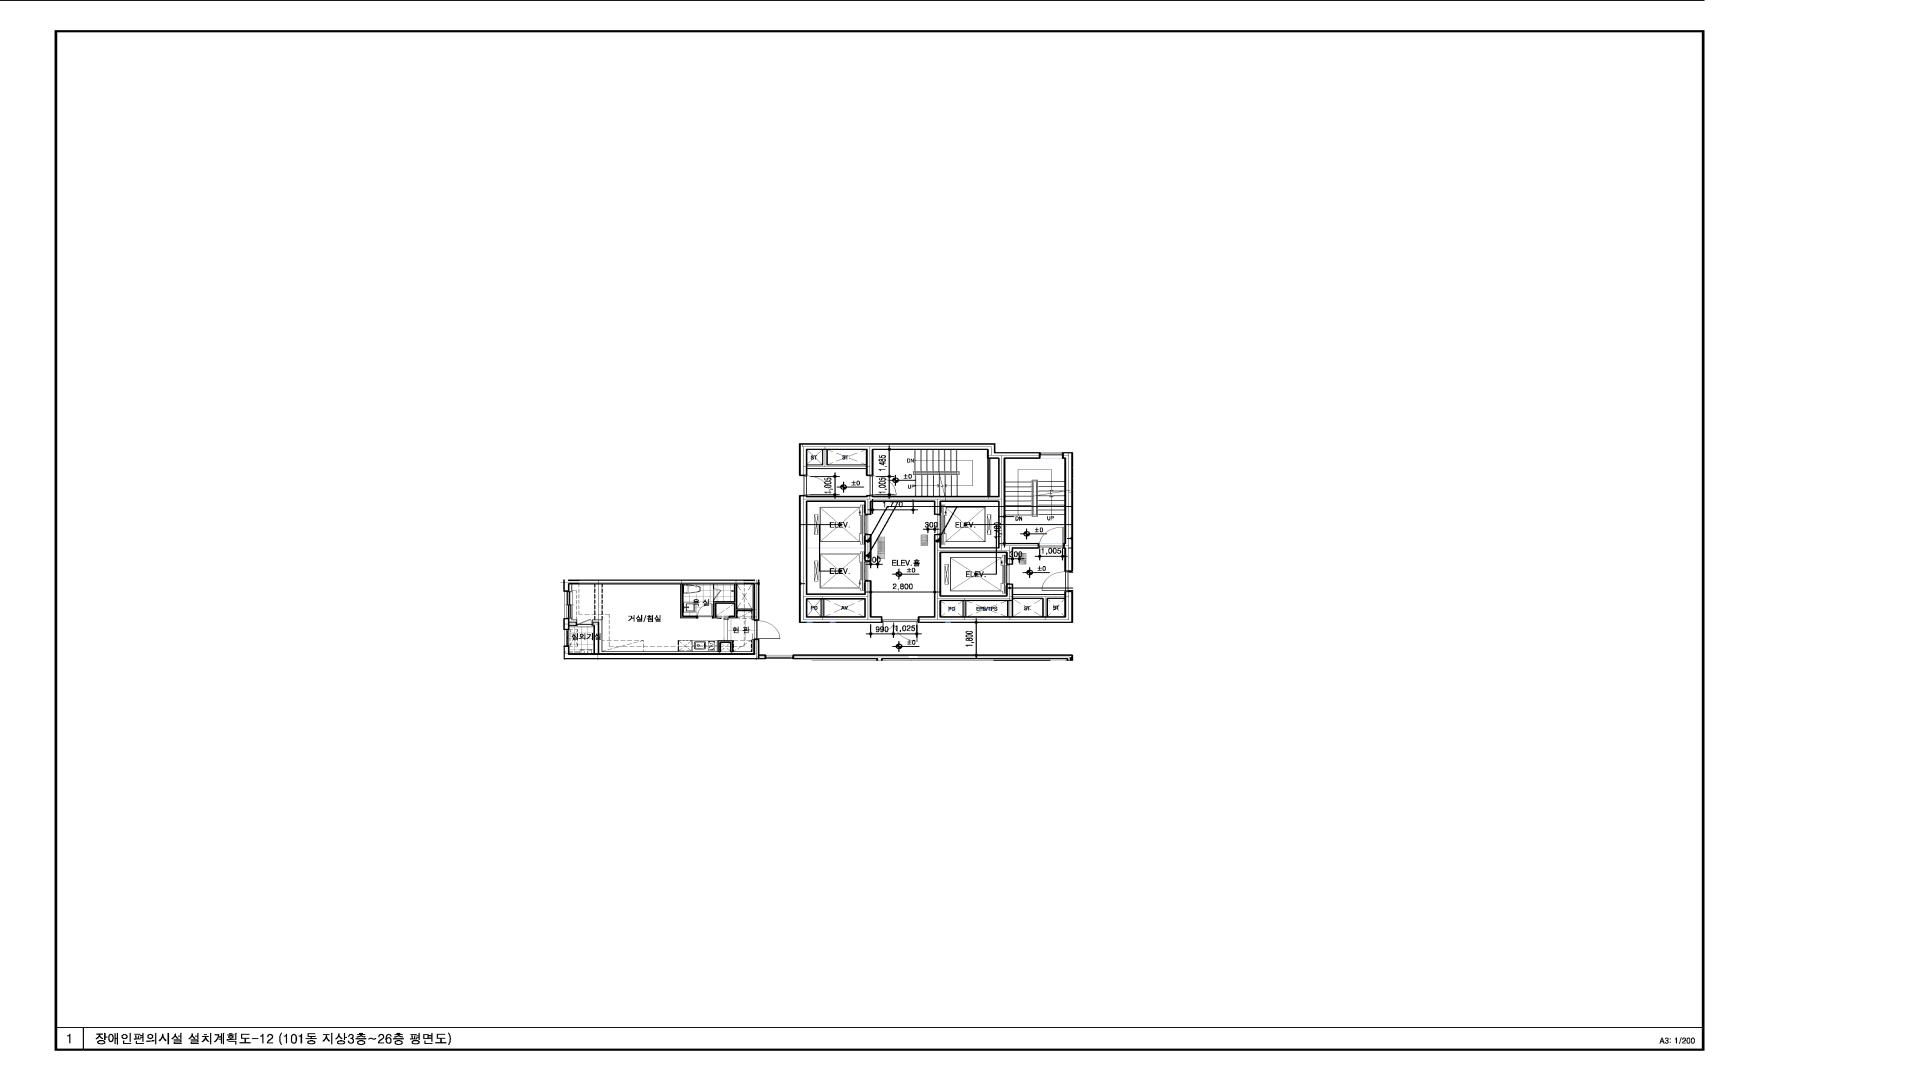door: (882, 620, 918, 642), (1042, 571, 1073, 591), (803, 476, 831, 496), (1039, 527, 1064, 549), (869, 476, 897, 495), (754, 621, 781, 640), (696, 604, 713, 618), (713, 584, 723, 601), (578, 618, 592, 626), (716, 616, 729, 620)
wall: (799, 443, 1073, 622), (563, 580, 760, 621), (563, 622, 766, 659), (592, 620, 753, 653), (793, 654, 1073, 659), (1062, 452, 1073, 571), (713, 584, 753, 620), (680, 584, 696, 618), (864, 534, 872, 562), (563, 618, 578, 630), (820, 600, 824, 616), (963, 601, 967, 616), (570, 618, 578, 621), (570, 584, 572, 592)
window: (564, 592, 572, 618), (1040, 452, 1062, 459), (766, 655, 793, 659), (564, 630, 568, 645)
